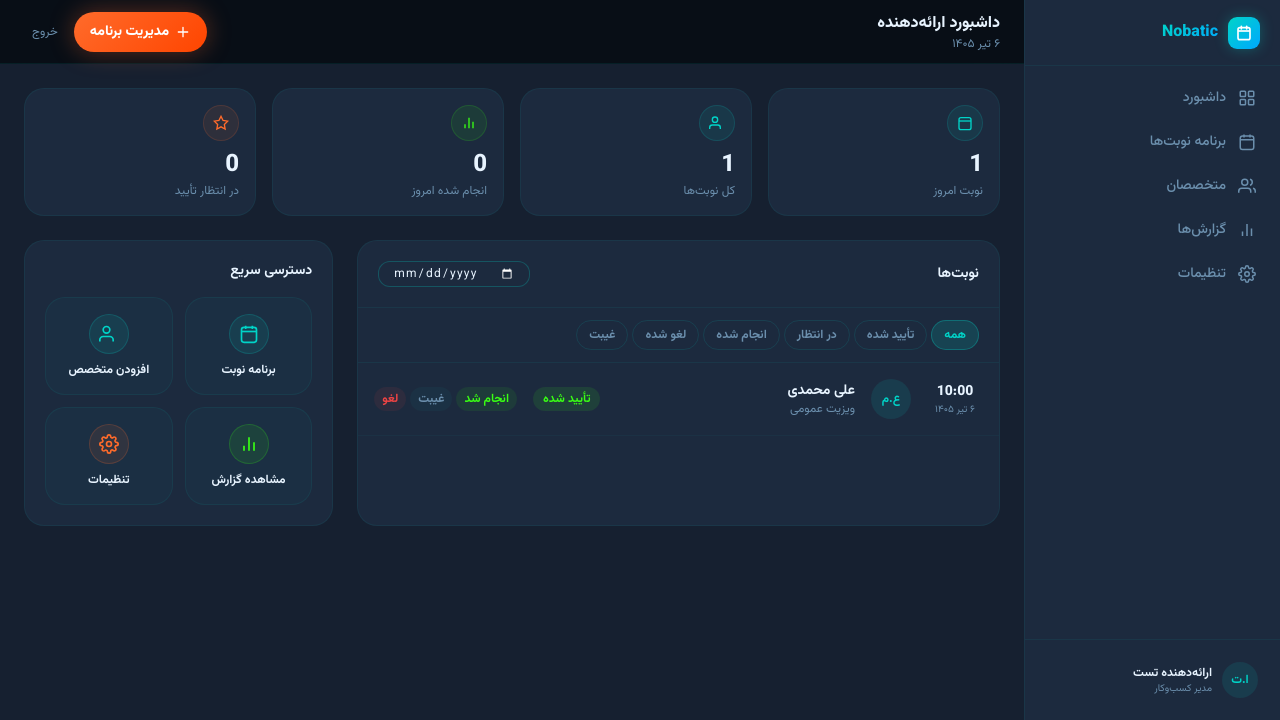
it: confirm dialog › clicking لغو opens confirm dialog with correct question
The image size is (1280, 720).
Click the button "لغو". click: (390, 399)
box: [374,387,406,411]
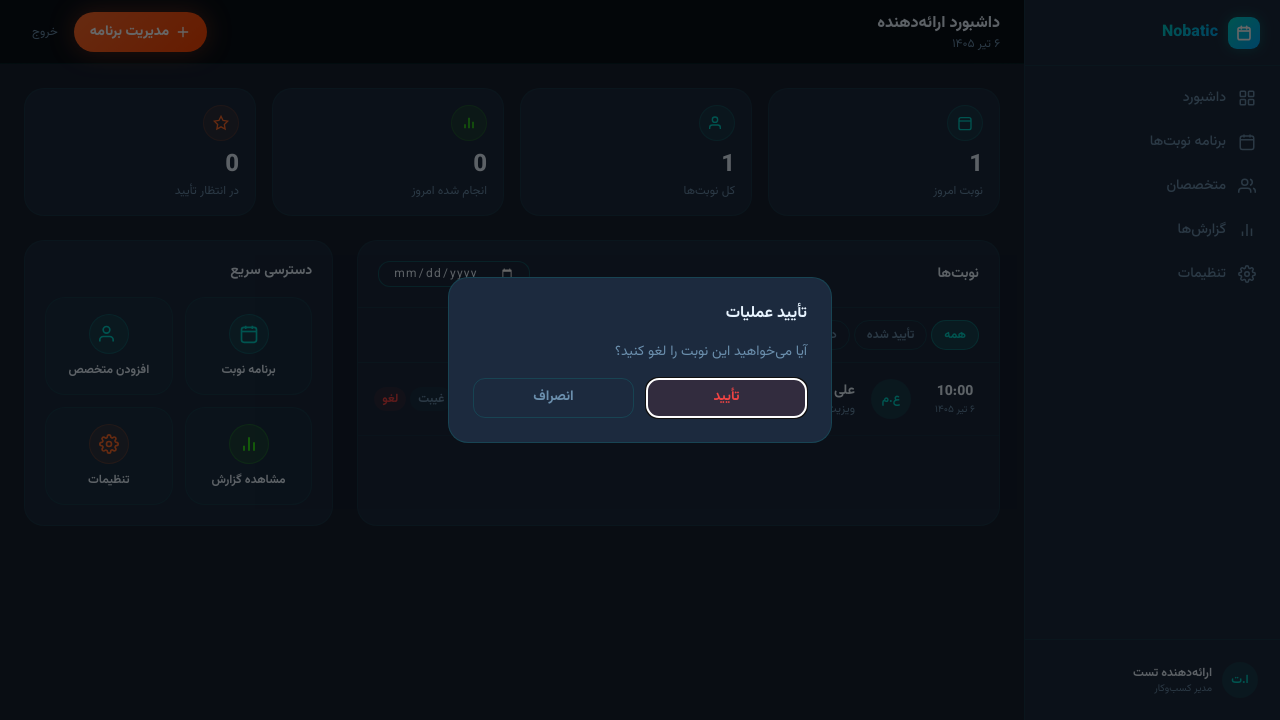
Expected: the text "آیا می‌خواهید این نوبت را لغو کنید؟" is shown, [615,341,807,363]
